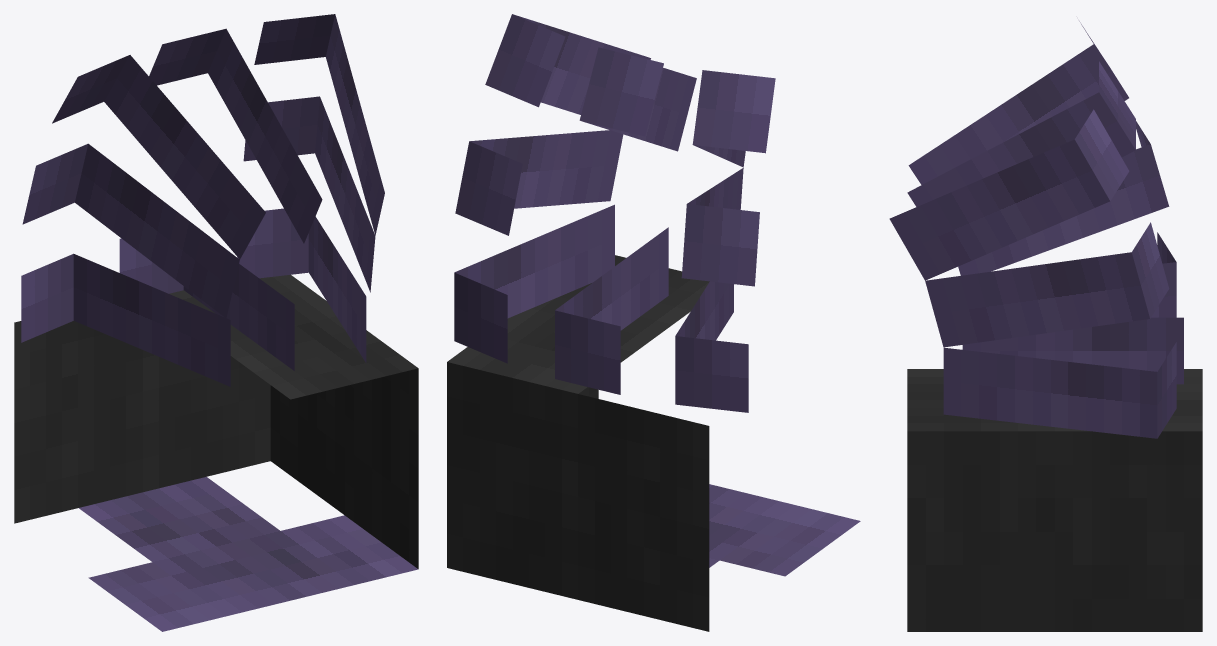
Rendered from azathothstatue.obj.
3 views of the same model, side by side, from view 1: azimuth 30°, elevation 25°; view 2: azimuth 150°, elevation 25°; view 3: azimuth 270°, elevation 25° (orthographic). The views are drawn at different scales.
Parts seen in each view (by area): view 1: base, limb7, limb3, limb5, limb2, limb8, limb6, limb4, limb1; view 2: base, limb8, limb4, limb1, limb2, limb6, limb7, limb3, limb5; view 3: base, limb6, limb4, limb8, limb5, limb1, limb2, limb3, limb7.
Boxes of the visible parts, x1=… form: base: x1=14, y1=274, x2=418, y2=631; limb7: x1=21, y1=253, x2=230, y2=386; limb3: x1=22, y1=143, x2=239, y2=318; limb5: x1=52, y1=55, x2=265, y2=259; limb2: x1=149, y1=28, x2=322, y2=243; limb8: x1=237, y1=208, x2=366, y2=362; limb6: x1=254, y1=14, x2=384, y2=235; limb4: x1=243, y1=96, x2=375, y2=292; limb1: x1=119, y1=238, x2=294, y2=370; base: x1=447, y1=255, x2=860, y2=631; limb8: x1=454, y1=204, x2=614, y2=363; limb4: x1=455, y1=130, x2=623, y2=235; limb1: x1=555, y1=227, x2=668, y2=394; limb2: x1=579, y1=47, x2=696, y2=151; limb6: x1=485, y1=14, x2=650, y2=114; limb7: x1=675, y1=281, x2=748, y2=412; limb3: x1=681, y1=168, x2=759, y2=286; limb5: x1=692, y1=70, x2=775, y2=167; base: x1=907, y1=369, x2=1202, y2=631; limb6: x1=889, y1=109, x2=1129, y2=280; limb4: x1=925, y1=222, x2=1169, y2=347; limb8: x1=943, y1=342, x2=1176, y2=438; limb5: x1=908, y1=21, x2=1128, y2=184; limb1: x1=962, y1=317, x2=1183, y2=384; limb2: x1=907, y1=61, x2=1135, y2=206; limb3: x1=958, y1=121, x2=1169, y2=275; limb7: x1=1151, y1=232, x2=1176, y2=317.
Size of the model in its own units: 0.5707 by 0.9208 by 0.5302.
